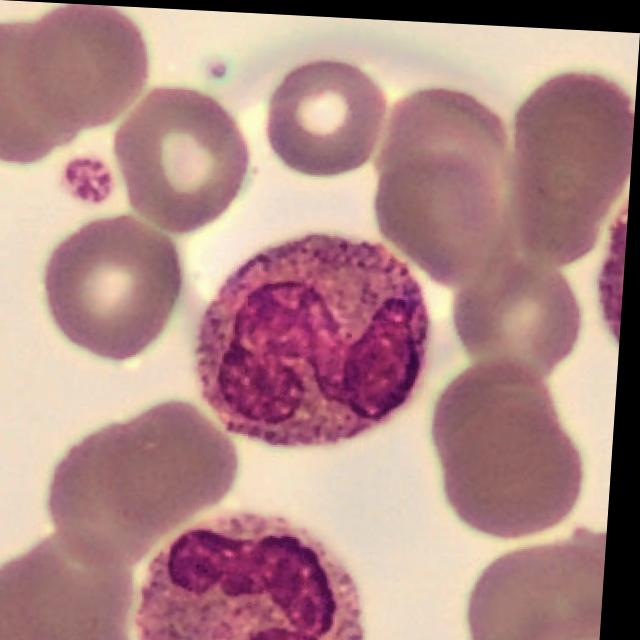Neutrofilo segmentado: (202, 233, 431, 441)
